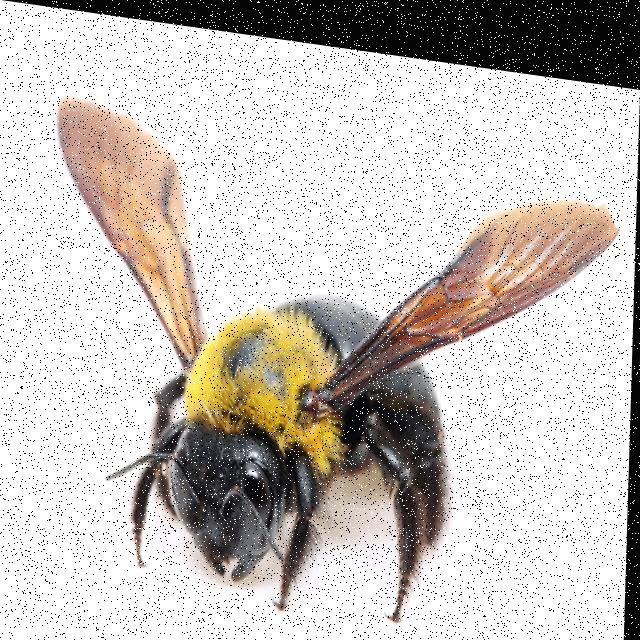Allodapula: (37, 71, 628, 640)
